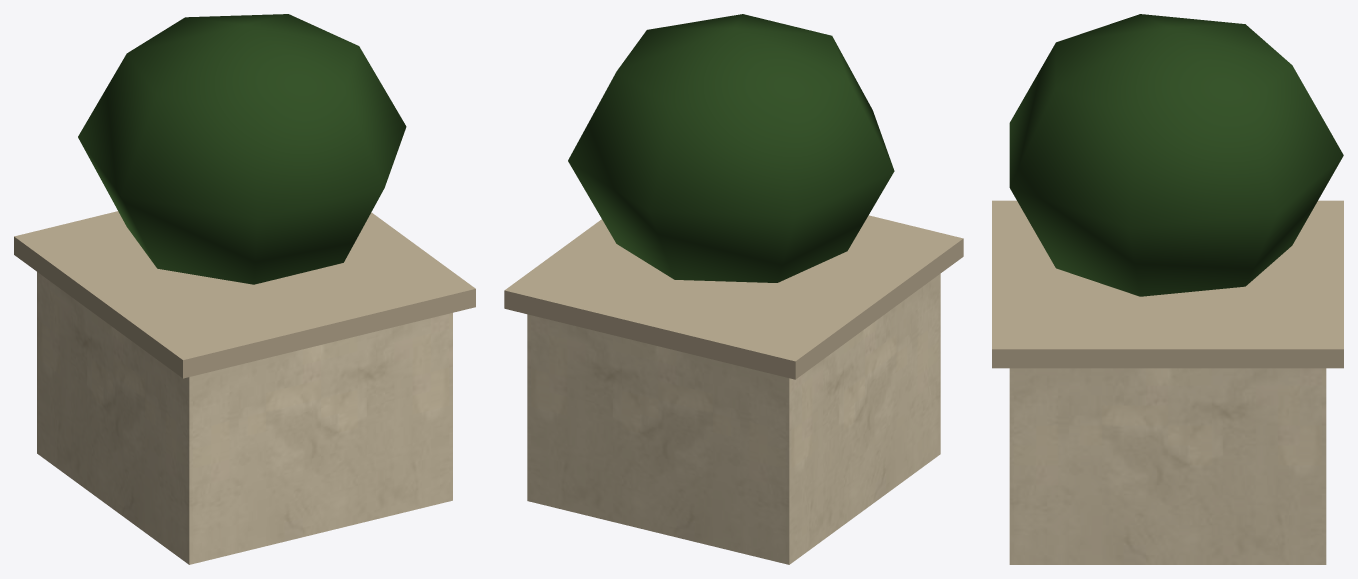
File: planter.glb
3 views of the same model, side by side, from view 1: azimuth 30°, elevation 25°; view 2: azimuth 150°, elevation 25°; view 3: azimuth 270°, elevation 25° (orthographic). The views are drawn at different scales.
Parts seen in each view (by area): view 1: planter; view 2: planter; view 3: planter.
Part boxes in pixels (x1,y1,x2,y2): planter: (14,14,475,564); planter: (504,14,963,564); planter: (992,14,1343,564).
Bounding box in the file's own units: 1 × 1.48 × 1.
Materials: 3 (1 with a texture image).
